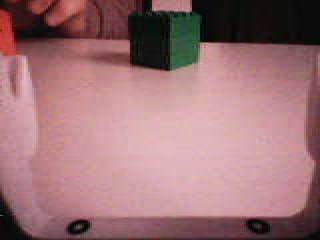legocube: (125, 9, 204, 74)
